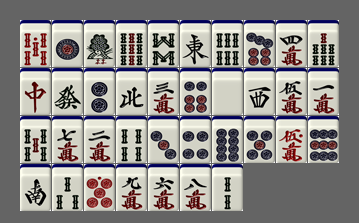0m: (276, 116, 307, 163)
0p: (84, 164, 115, 211)
0s: (20, 20, 51, 67)
1m: (308, 68, 339, 115)
1p: (52, 20, 83, 67)
1s: (84, 20, 115, 67)
1z: (180, 20, 211, 67)
2m: (84, 116, 115, 163)
2p: (84, 68, 115, 115)
2s: (212, 164, 243, 211)
2z: (20, 164, 51, 211)
3m: (148, 68, 179, 115)
3p: (148, 116, 179, 163)
3s: (52, 164, 83, 211)
3z: (244, 68, 275, 115)
4m: (276, 20, 307, 67)
4p: (180, 116, 211, 163)
4s: (116, 116, 147, 163)
4z: (116, 68, 147, 115)
5m: (276, 68, 307, 115)
5p: (244, 116, 275, 163)
5s: (20, 116, 51, 163)
5z: (212, 68, 243, 115)
6m: (148, 164, 179, 211)
6p: (180, 68, 211, 115)
6s: (212, 20, 243, 67)
6z: (52, 68, 83, 115)
7m: (52, 116, 83, 163)
7p: (244, 20, 275, 67)
7s: (308, 20, 339, 67)
7z: (20, 68, 51, 115)
8m: (180, 164, 211, 211)
8p: (212, 116, 243, 163)
8s: (148, 20, 179, 67)
9m: (116, 164, 147, 211)
9p: (308, 116, 339, 163)
9s: (116, 20, 147, 67)
